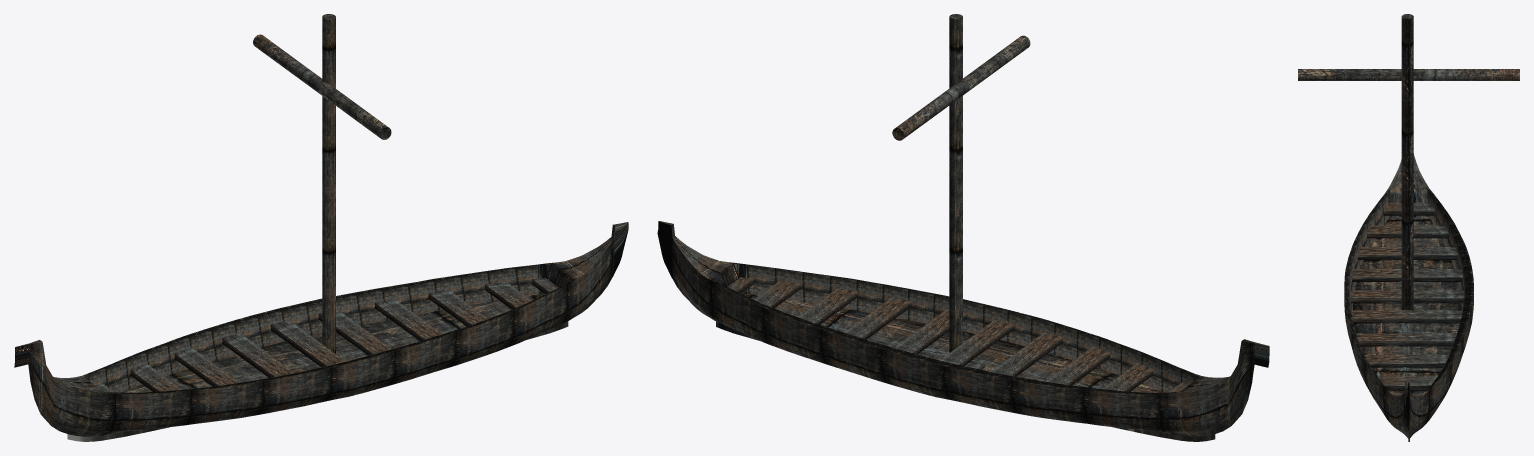
File: viking ship.fbx
3 renders of one model, left to right at view 1: azimuth 30°, elevation 25°; view 2: azimuth 150°, elevation 25°; view 3: azimuth 270°, elevation 25°, orthographic. The views are drawn at different scales.
Visible parts, largest first — view 1: pCube2, pCube4, pCylinder1, pasted__pCylinder1; view 2: pCube2, pCube4, pCylinder1, pasted__pCylinder1; view 3: pCube2, pCube4, pCylinder1, pasted__pCylinder1.
Part boxes in pixels (box(x1,y1,x2,y2)): pCube2: box(14, 222, 628, 441); pCube4: box(95, 278, 558, 392); pCylinder1: box(322, 14, 335, 353); pasted__pCylinder1: box(253, 34, 391, 139); pCube2: box(657, 221, 1269, 441); pCube4: box(727, 277, 1187, 392); pCylinder1: box(949, 14, 962, 352); pasted__pCylinder1: box(892, 35, 1030, 140); pCube2: box(1344, 153, 1473, 441); pCube4: box(1350, 202, 1464, 389); pCylinder1: box(1401, 14, 1413, 310); pasted__pCylinder1: box(1298, 69, 1519, 80).
Size of the model in its own units: 25.19 by 14.71 by 9.02.
Materials: 1 (1 with a texture image).
